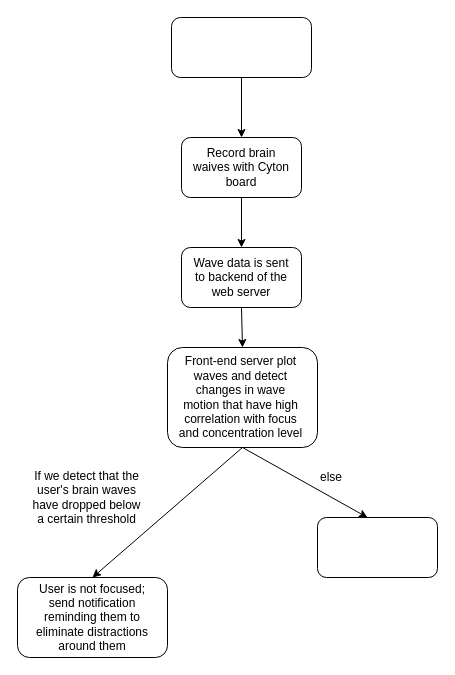
Image size: 455x675. Some labels were removed from this diagram. Each missing label, with the centre of its shape:
"Electrodes Placed at Fp1, Fp2, O1, O2, T5, T6" belongs at point 241,47.
"User is focused :)" belongs at point 377,547.
